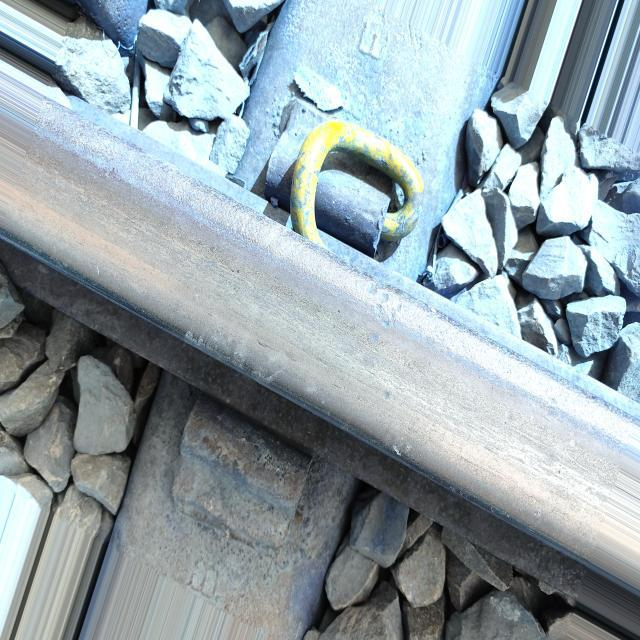Good Fasteners: (241, 90, 431, 253)
Missing Fastener: (154, 384, 328, 586)
